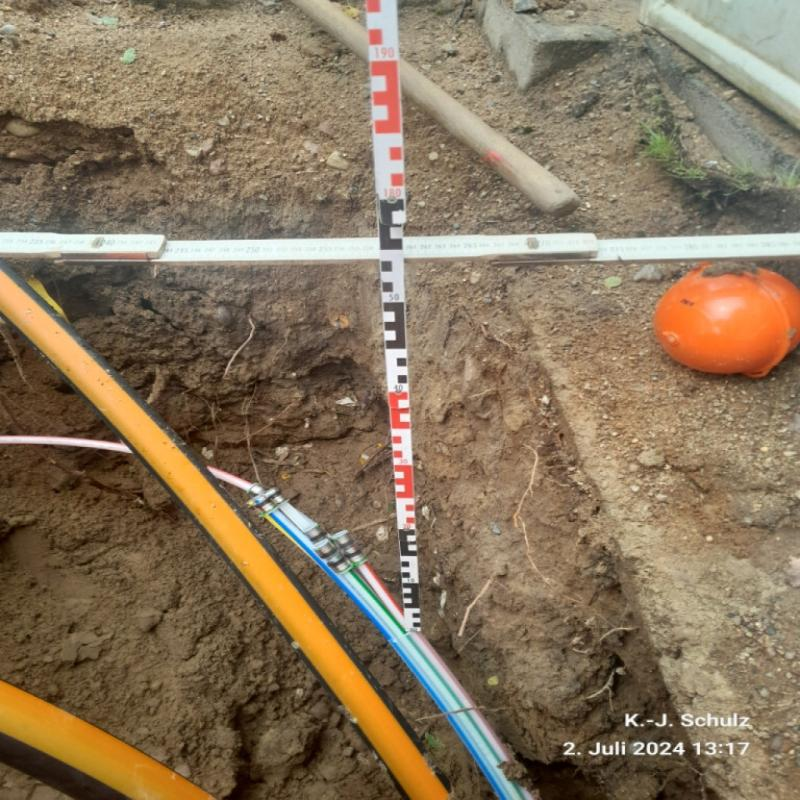Kugelmarker: (652, 259, 799, 379)
Orang-Speednetrohrchen: (0, 270, 464, 797), (0, 670, 220, 800)
